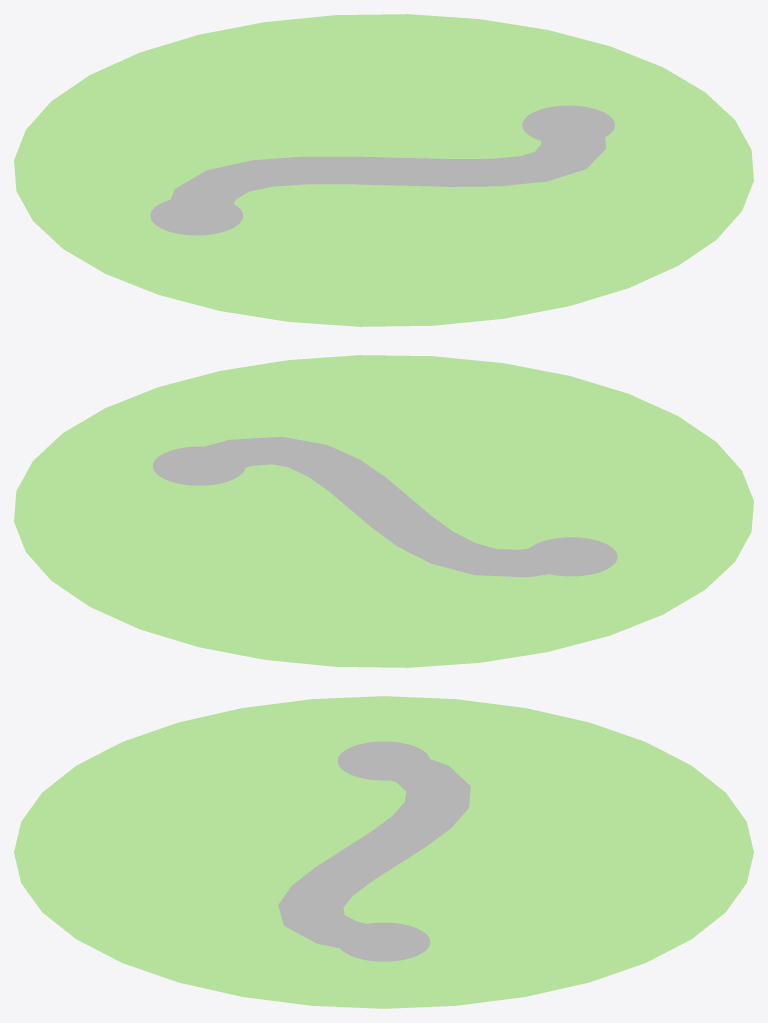
Rendered from ground.fbx.
The picture shows the model from 3 angles, top to bottom: view 1: azimuth 30°, elevation 25°; view 2: azimuth 150°, elevation 25°; view 3: azimuth 270°, elevation 25°; orthographic projection.
Visible parts, largest first — view 1: 원형, BézierCurve, 원형.002, 원형.001; view 2: 원형, BézierCurve, 원형.002, 원형.001; view 3: 원형, BézierCurve, 원형.001, 원형.002.
Boxes of the visible parts, <box> form: 원형: <box>14,14,753,326</box>; BézierCurve: <box>164,121,606,215</box>; 원형.002: <box>150,200,243,235</box>; 원형.001: <box>522,105,614,140</box>; 원형: <box>14,355,753,667</box>; BézierCurve: <box>176,436,586,577</box>; 원형.002: <box>530,537,617,576</box>; 원형.001: <box>153,446,245,485</box>; 원형: <box>14,696,753,1008</box>; BézierCurve: <box>278,748,470,955</box>; 원형.001: <box>340,922,430,961</box>; 원형.002: <box>337,741,429,780</box>.
Size of the model in its own units: 2253 by 3 by 2253.
